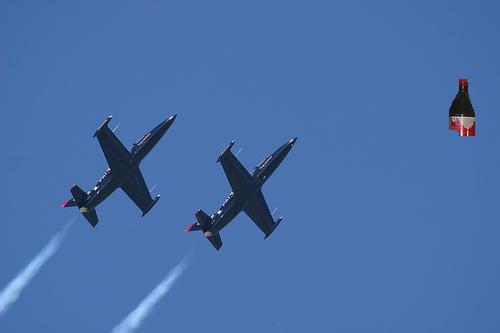tampered: (450, 80, 475, 136)
